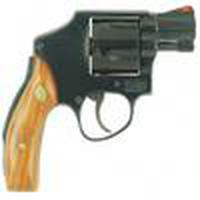gun: (3, 7, 196, 194)
